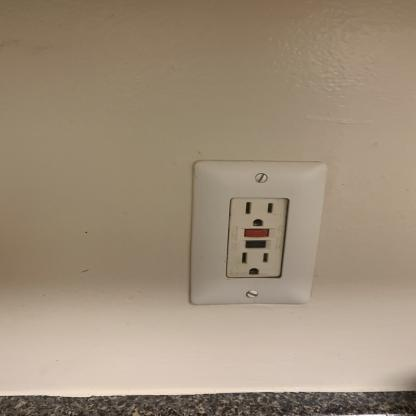OUTLET: (193, 161, 315, 305)
